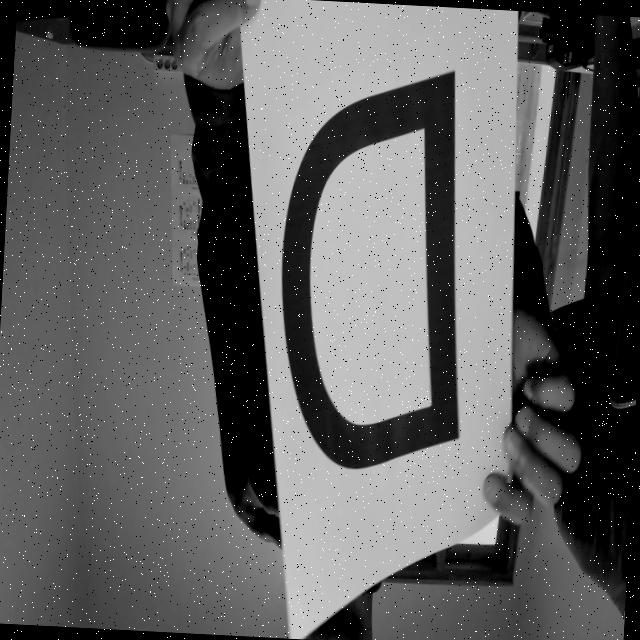d: (259, 50, 487, 482)
